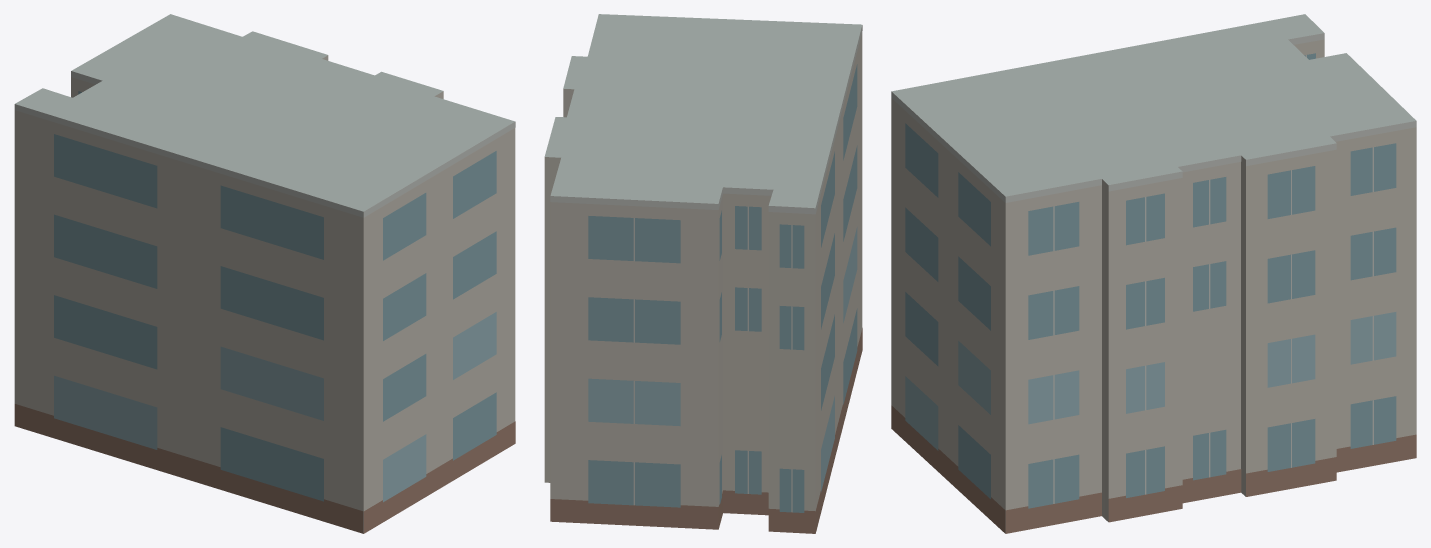
Rendered from survey-upis-33013735.glb.
3 renders of one model, left to right at view 1: azimuth 30°, elevation 25°; view 2: azimuth 150°, elevation 25°; view 3: azimuth 270°, elevation 25°, orthographic. The views are drawn at different scales.
Parts seen in each view (by area): view 1: survey-upis-33013735.tmp; view 2: survey-upis-33013735.tmp; view 3: survey-upis-33013735.tmp.
Boxes of the visible parts, <box> form: survey-upis-33013735.tmp: <box>14,14,515,533</box>; survey-upis-33013735.tmp: <box>544,14,862,533</box>; survey-upis-33013735.tmp: <box>891,14,1416,533</box>.
Size of the model in its own units: 15 by 12.9 by 18.22.
